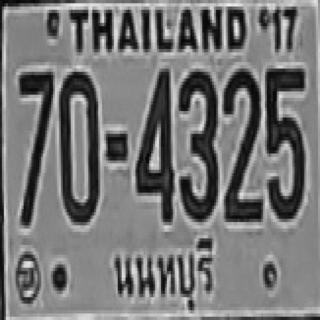N00: (59, 68, 98, 222)
N02: (222, 65, 261, 219)
N03: (178, 69, 217, 219)
N04: (135, 65, 173, 219)
N05: (264, 65, 303, 219)
N07: (18, 69, 53, 225)
P37: (107, 231, 220, 314)
